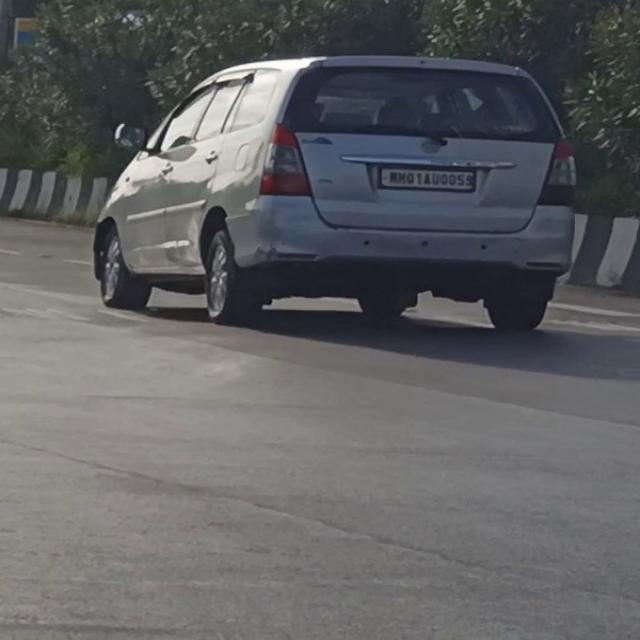license-plate: (378, 165, 476, 190)
